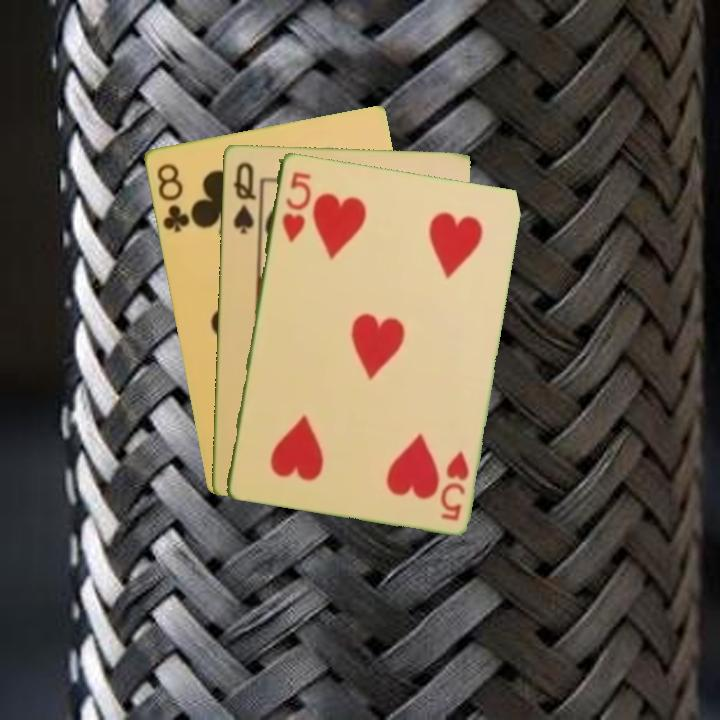5h: (278, 168, 314, 245), (436, 447, 472, 523)
8c: (153, 159, 192, 235)
Qs: (229, 158, 258, 236)
